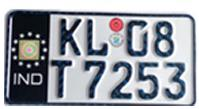0: (123, 18, 151, 56)
2: (109, 59, 133, 99)
3: (162, 60, 187, 100)
5: (136, 60, 159, 100)
7: (81, 58, 106, 99)
8: (153, 19, 174, 57)
K: (57, 16, 83, 56)
L: (84, 17, 109, 56)
T: (49, 57, 73, 99)
